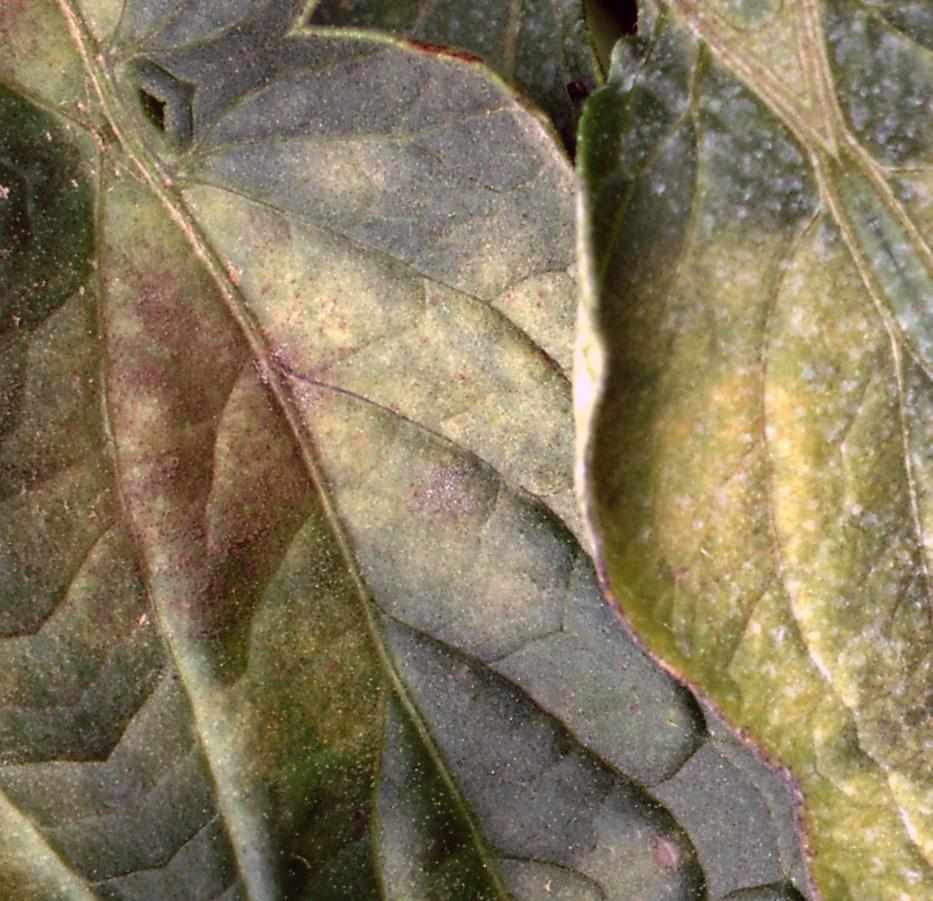Tomato mold leaf: (0, 0, 886, 901), (335, 0, 933, 816)
